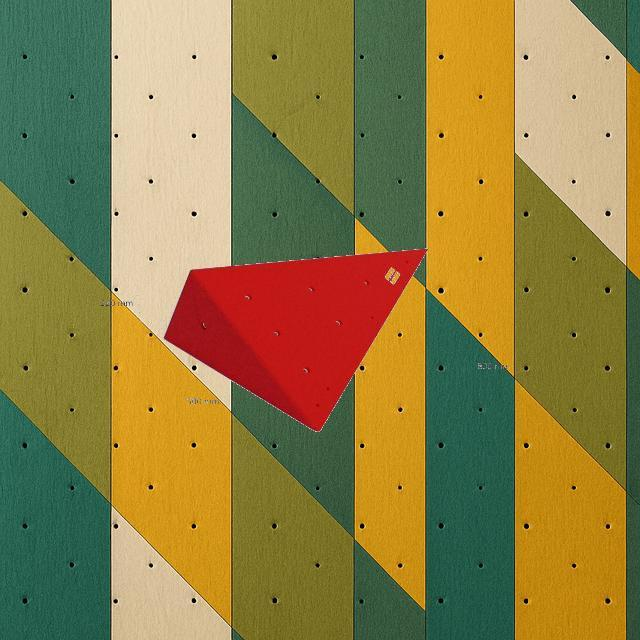Volume: (164, 246, 428, 432)
